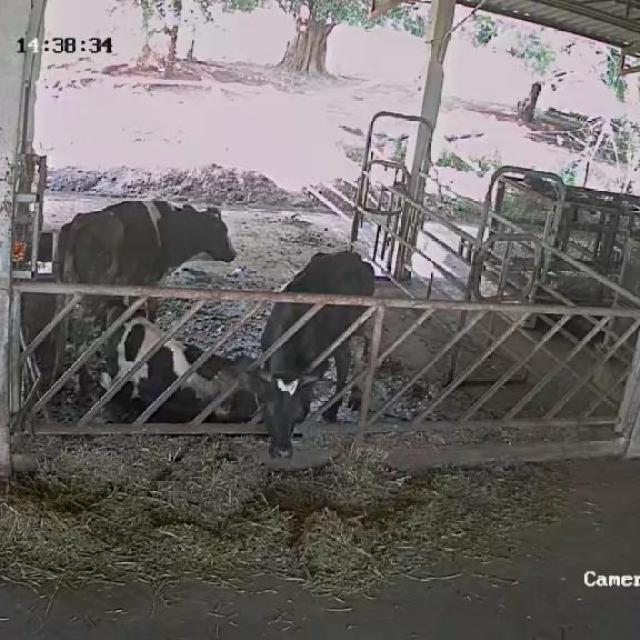feeding: (236, 251, 380, 457)
lying down: (92, 295, 276, 427)
standing: (50, 195, 238, 383)
